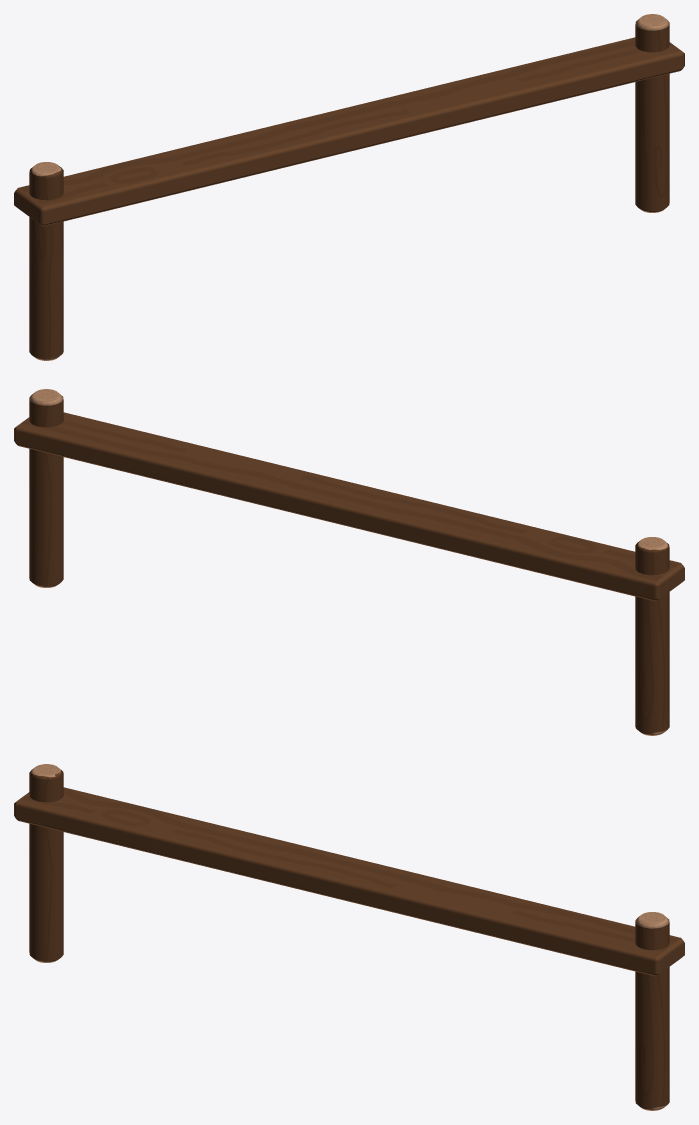
File: M_Wide_Suport_2.fbx
3 renders of one model, top to bottom at view 1: azimuth 30°, elevation 25°; view 2: azimuth 150°, elevation 25°; view 3: azimuth 330°, elevation 25°, orthographic.
Visible parts, largest first — view 1: M_Wide_Suport_2; view 2: M_Wide_Suport_2; view 3: M_Wide_Suport_2.
Part boxes in pixels (box(x1,y1,x2,y2)): M_Wide_Suport_2: box(14, 14, 684, 360); M_Wide_Suport_2: box(14, 389, 684, 735); M_Wide_Suport_2: box(14, 764, 684, 1110).
Bounding box in the file's own units: 800 × 223 × 63.13.
